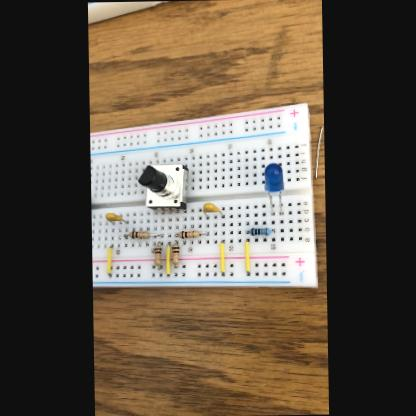breadboard: (89, 102, 318, 292)
resistor: (178, 230, 199, 239), (249, 227, 270, 235), (172, 243, 180, 264), (128, 230, 148, 238), (154, 246, 162, 264)
wire: (314, 128, 324, 178), (278, 193, 282, 214), (148, 233, 162, 236), (270, 195, 272, 215), (204, 212, 209, 218), (219, 211, 223, 217), (157, 241, 162, 245), (156, 266, 161, 270), (199, 232, 208, 234), (246, 270, 250, 274), (108, 220, 113, 223), (123, 235, 128, 238), (122, 220, 126, 223), (167, 242, 170, 246), (271, 230, 274, 233), (175, 233, 178, 236), (174, 240, 177, 243), (221, 271, 224, 274), (246, 230, 250, 232), (166, 274, 170, 276), (245, 240, 248, 242), (220, 241, 223, 243), (109, 244, 112, 246), (175, 265, 177, 268), (108, 272, 110, 275)
